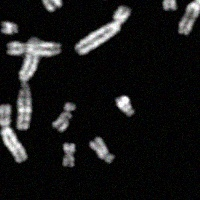chromosome: (74, 6, 132, 56), (17, 37, 41, 129), (0, 103, 27, 162), (177, 0, 200, 34), (5, 42, 62, 55), (52, 102, 76, 131), (89, 137, 114, 163), (11, 0, 60, 12), (115, 95, 135, 116), (43, 0, 88, 8), (62, 143, 76, 167), (2, 21, 17, 35), (163, 0, 179, 10)
